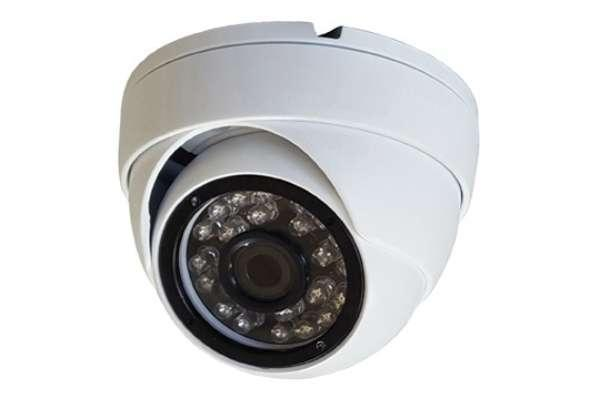maru: (118, 18, 481, 382)
